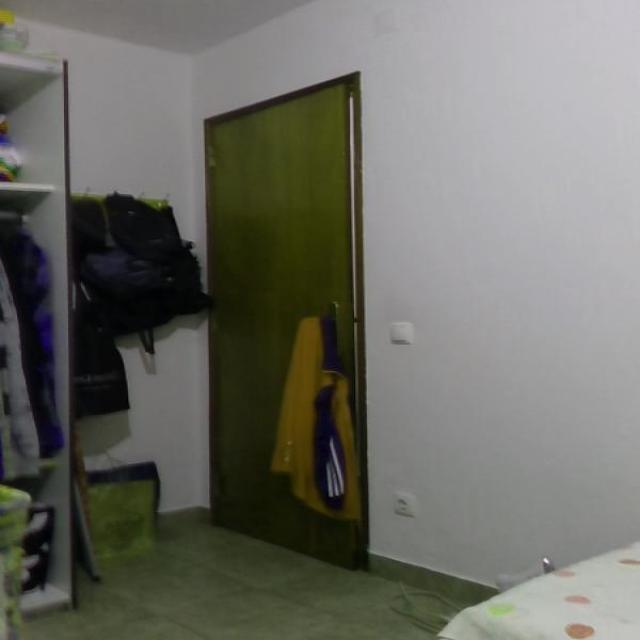door: (202, 71, 368, 570)
